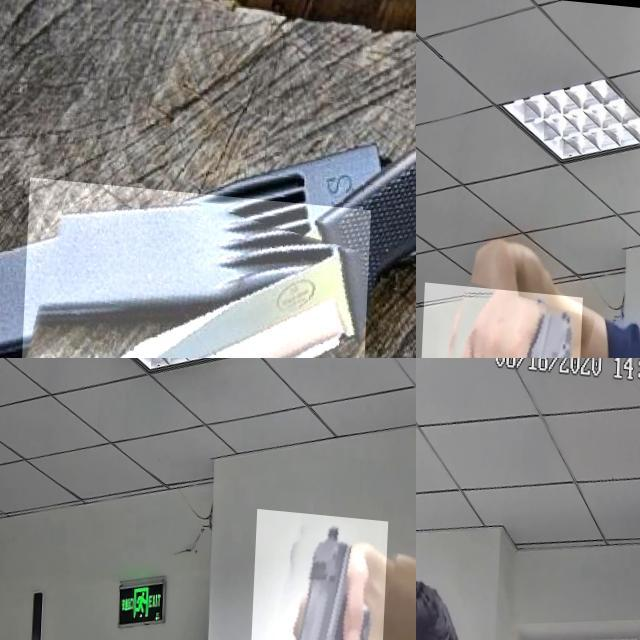-: (21, 176, 373, 358)
gun-knife-thesis - v11 Yolov5 augmented: (249, 503, 390, 640), (417, 281, 585, 358)
